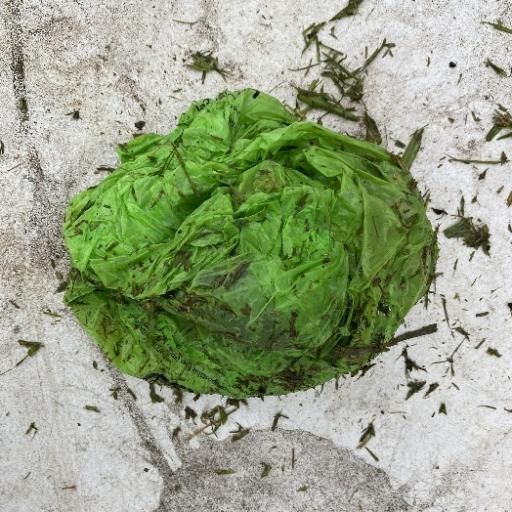Waste: (60, 86, 440, 399)
